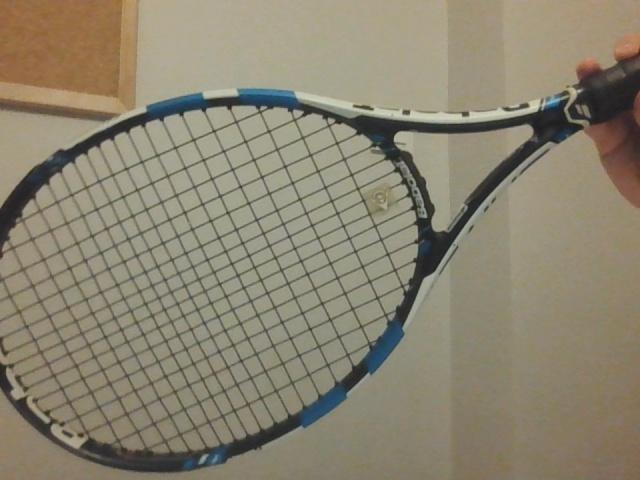Tennis-Racket: (0, 88, 640, 480)
